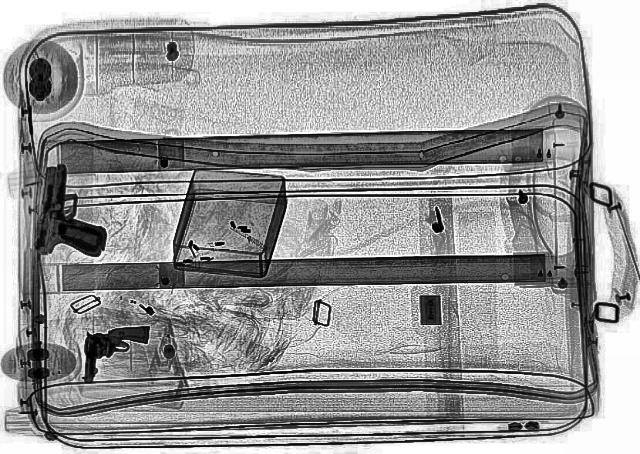Gun: (32, 162, 112, 258), (74, 320, 150, 390)
